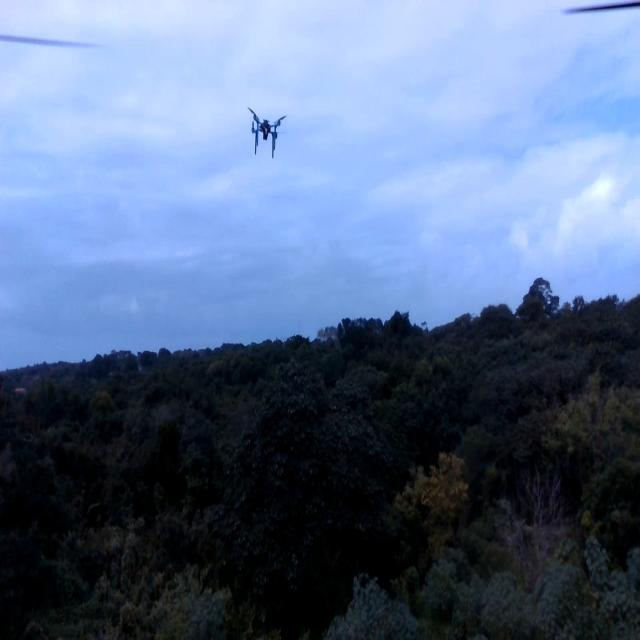-uav-: (241, 96, 290, 156)
